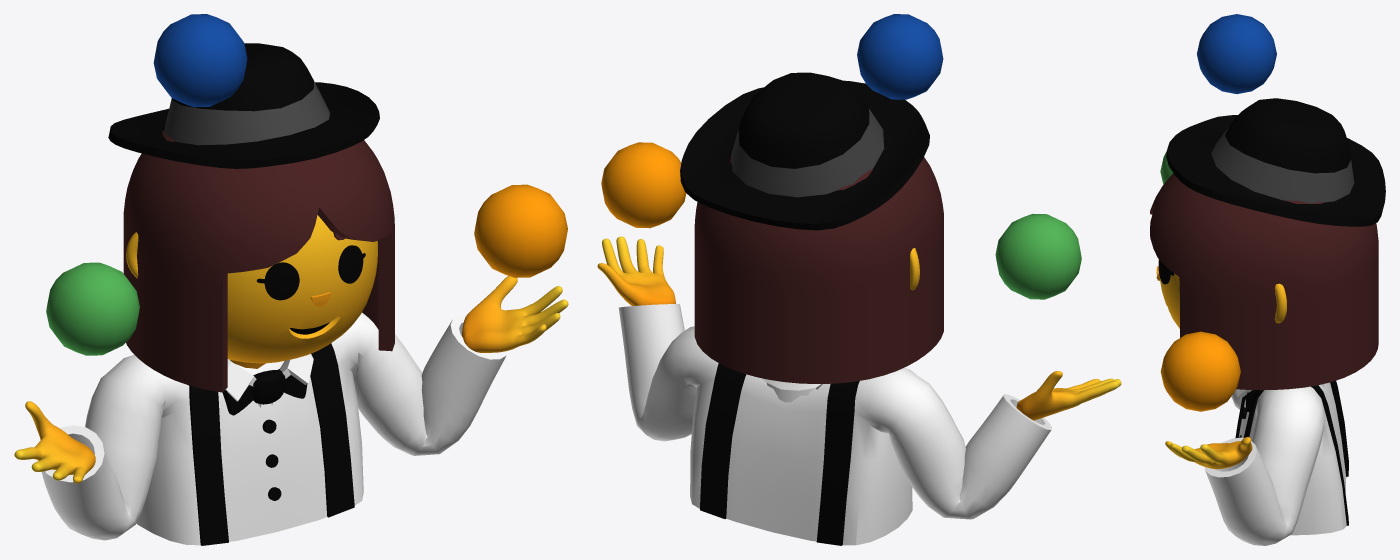
File: woman_juggling.fbx
3 renders of one model, left to right at view 1: azimuth 30°, elevation 25°; view 2: azimuth 150°, elevation 25°; view 3: azimuth 270°, elevation 25°, orthographic. The views are drawn at different scales.
Parts seen in each view (by area): view 1: Circle.2168, Roundcube.502, Cube.334, Plane.190, Roundcube.501, Circle.2175, hand.010, hand.008, Circle.2169, Plane.129, Cube.332, Circle.2173; view 2: Circle.2168, Roundcube.502, Plane.190, Cube.334, Circle.2175, hand.010, hand.008, Plane.129; view 3: Roundcube.502, Plane.190, Circle.2168, Cube.334, hand.010, Circle.2175, Roundcube.501, Cylinder.028.
Part boxes in pixels (box(x1,y1,x2,y2)): Circle.2168: box(41, 312, 508, 545); Roundcube.502: box(123, 129, 394, 392); Cube.334: box(46, 14, 567, 355); Plane.190: box(108, 43, 379, 168); Roundcube.501: box(227, 215, 377, 368); Circle.2175: box(189, 343, 354, 545); hand.010: box(462, 276, 568, 352); hand.008: box(14, 401, 95, 483); Circle.2169: box(264, 245, 363, 300); Plane.129: box(225, 354, 313, 407); Cube.332: box(252, 370, 285, 404); Circle.2173: box(222, 369, 307, 415); Circle.2168: box(618, 304, 1052, 545); Roundcube.502: box(694, 153, 943, 383); Plane.190: box(680, 72, 929, 230); Cube.334: box(601, 14, 1081, 299); Circle.2175: box(700, 363, 859, 545); hand.010: box(597, 236, 675, 305); hand.008: box(1016, 371, 1121, 420); Plane.129: box(761, 378, 822, 402); Roundcube.502: box(1150, 173, 1378, 390); Plane.190: box(1166, 98, 1385, 226); Circle.2168: box(1204, 382, 1346, 545); Cube.334: box(1160, 14, 1276, 411); hand.010: box(1165, 437, 1252, 469); Circle.2175: box(1235, 380, 1348, 525); Roundcube.501: box(1158, 259, 1179, 328); Cylinder.028: box(1274, 283, 1286, 323).
Bounding box in the file's own units: 234 × 215 × 101.
Materials: 2 (2 with a texture image).
